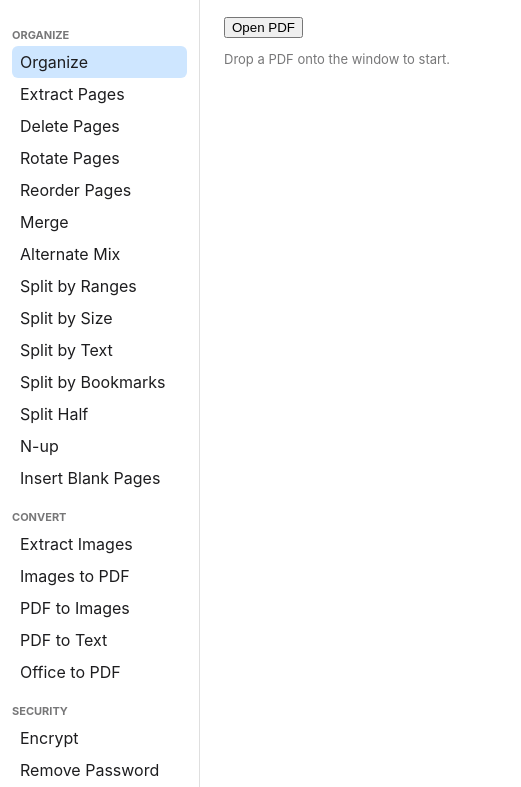
Test: App › switches tool from the nav
Click the button "Rotate Pages" at (100, 158), box [12,142,187,174]
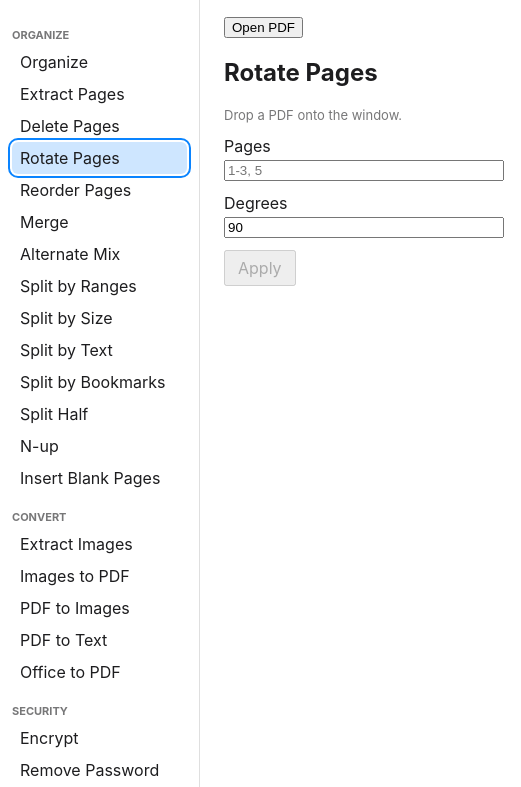
expect the text "Drop a PDF onto the window to start." is gone: met
